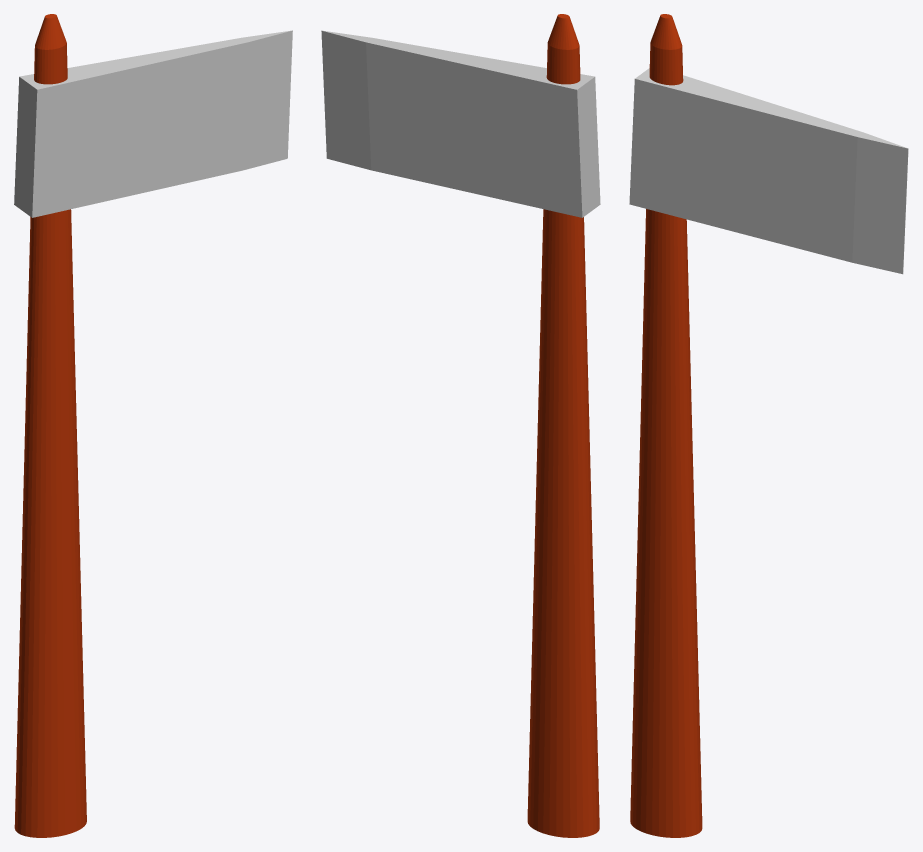
The model's file is Axe.fbx.
3 views of the same model, side by side, from view 1: azimuth 30°, elevation 25°; view 2: azimuth 150°, elevation 25°; view 3: azimuth 330°, elevation 25° (orthographic).
Visible parts, largest first — view 1: Handle; view 2: Handle; view 3: Handle.
Part boxes in pixels (box(x1,y1,x2,y2)): Handle: box(14, 14, 292, 837); Handle: box(321, 14, 600, 837); Handle: box(629, 14, 908, 837).
Size of the model in its own units: 200 by 560 by 35.64.
